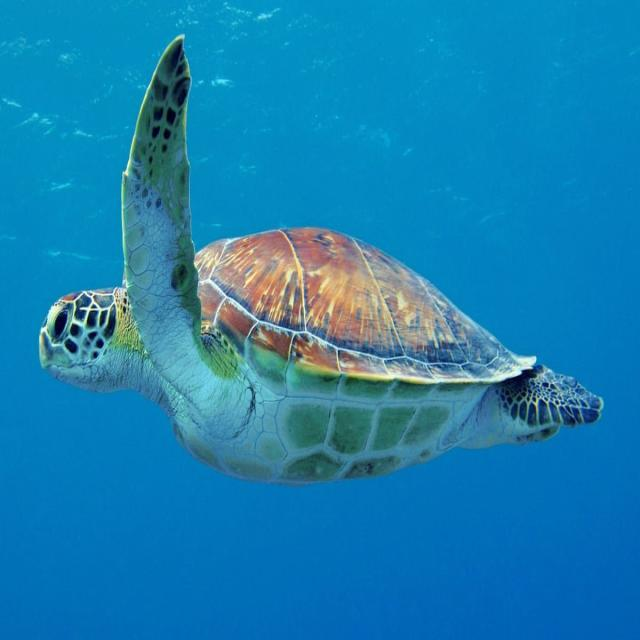turtle: (6, 127, 582, 540)
